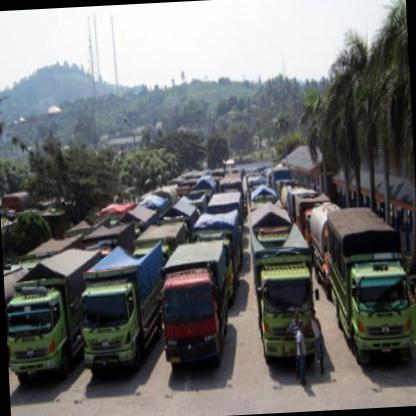truck: (345, 259, 415, 373), (5, 284, 70, 390), (256, 262, 318, 370), (160, 268, 221, 376), (77, 278, 141, 380)
